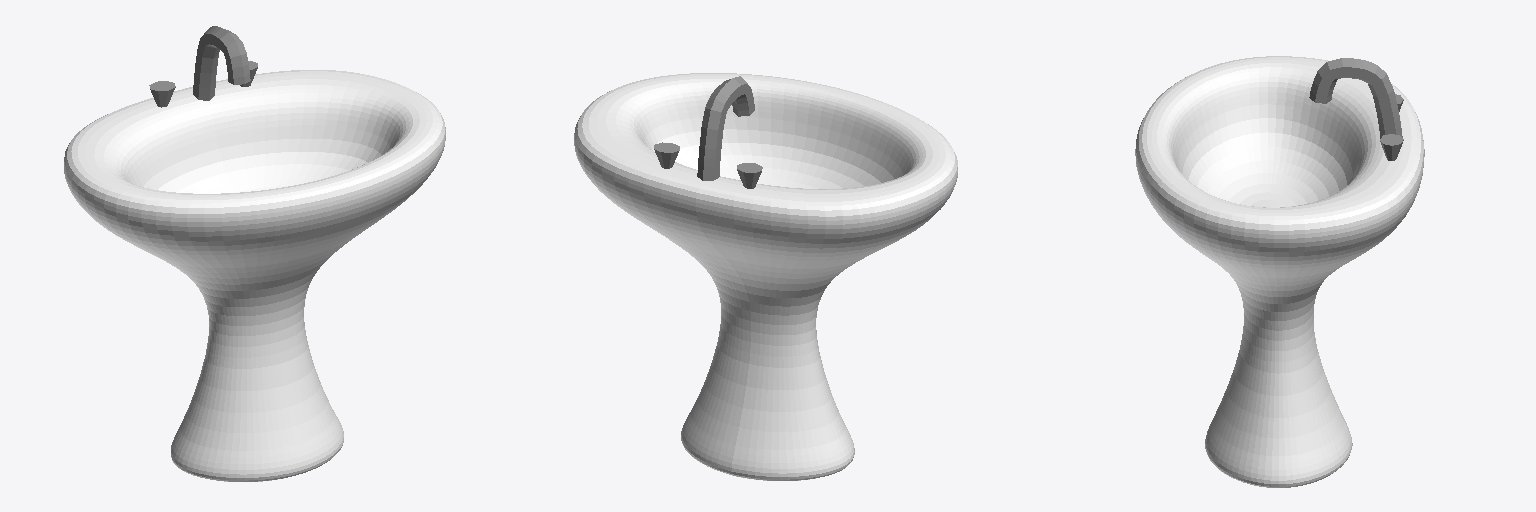
3 views of the same model, side by side, from view 1: azimuth 30°, elevation 25°; view 2: azimuth 150°, elevation 25°; view 3: azimuth 270°, elevation 25° (orthographic).
Parts seen in each view (by area): view 1: Lavabo_1, Robinet_2; view 2: Lavabo_1, Robinet_2; view 3: Lavabo_1, Robinet_2.
Boxes of the visible parts, box(x1,y1,x2,y2) form: Lavabo_1: box(64, 70, 445, 481); Robinet_2: box(193, 26, 250, 100); Lavabo_1: box(574, 73, 957, 480); Robinet_2: box(697, 76, 754, 180); Lavabo_1: box(1135, 56, 1424, 487); Robinet_2: box(1309, 58, 1402, 138).
Size of the model in its own units: 1.81 by 1.99 by 1.3.